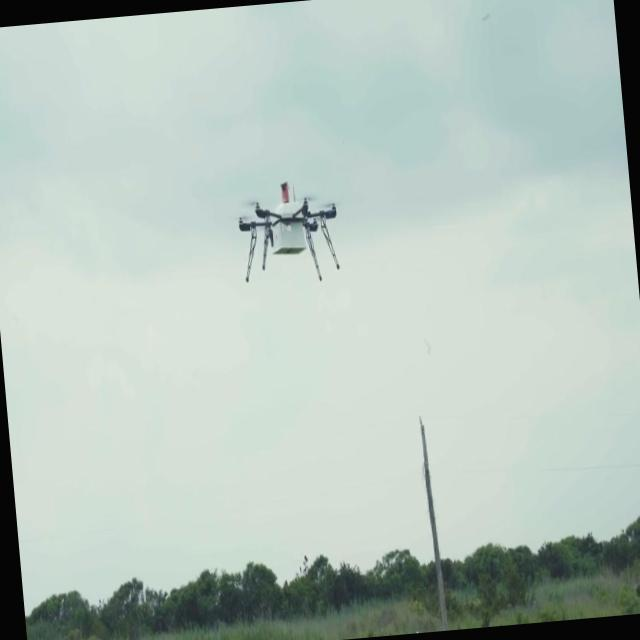drone: (233, 175, 344, 286)
